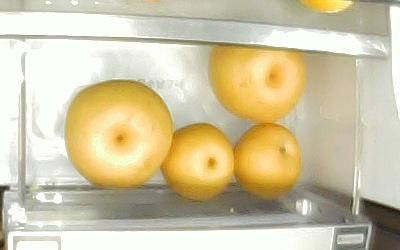pear: (64, 79, 173, 189), (208, 43, 305, 122), (160, 123, 234, 202), (233, 123, 302, 201)
